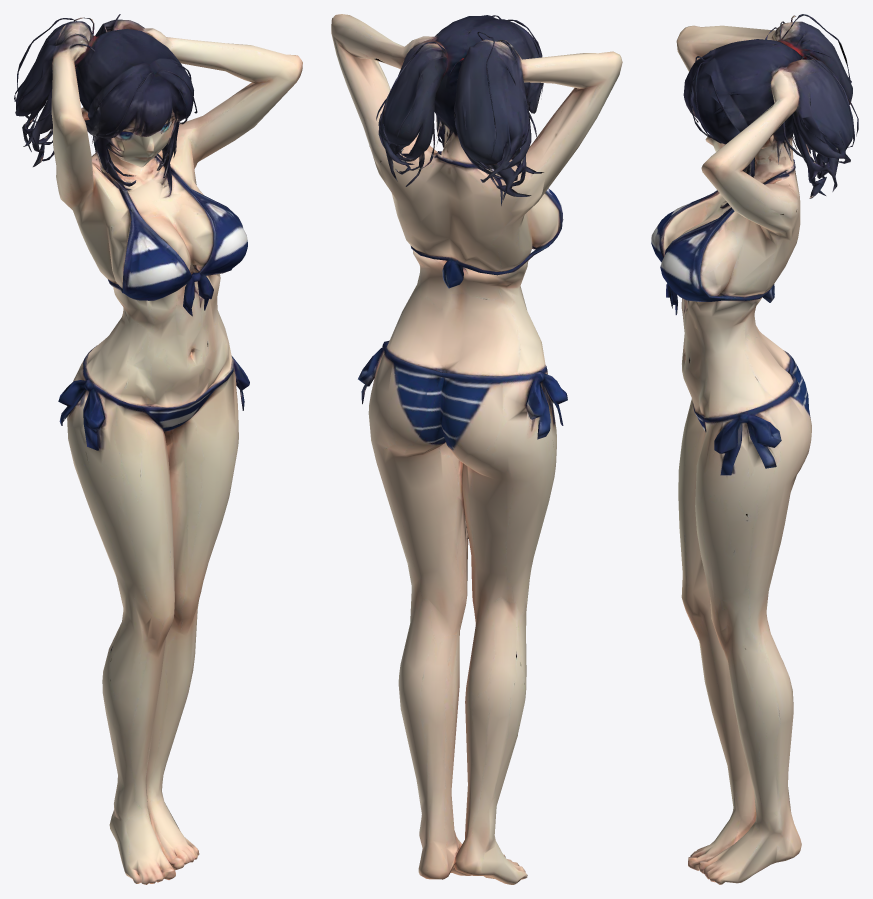
Rendered from crew-01.lod0.glb.
3 views of the same model, side by side, from view 1: azimuth 30°, elevation 25°; view 2: azimuth 150°, elevation 25°; view 3: azimuth 270°, elevation 25° (orthographic). The views are drawn at different scales.
Parts seen in each view (by area): view 1: Object_4; view 2: Object_4; view 3: Object_4.
Part boxes in pixels (x1,y1,x2,y2): Object_4: (14, 14, 302, 884); Object_4: (331, 14, 622, 884); Object_4: (651, 14, 858, 884).
Bounding box in the file's own units: 0.3229 × 0.9997 × 0.2259.
1 material, 1 textured.
